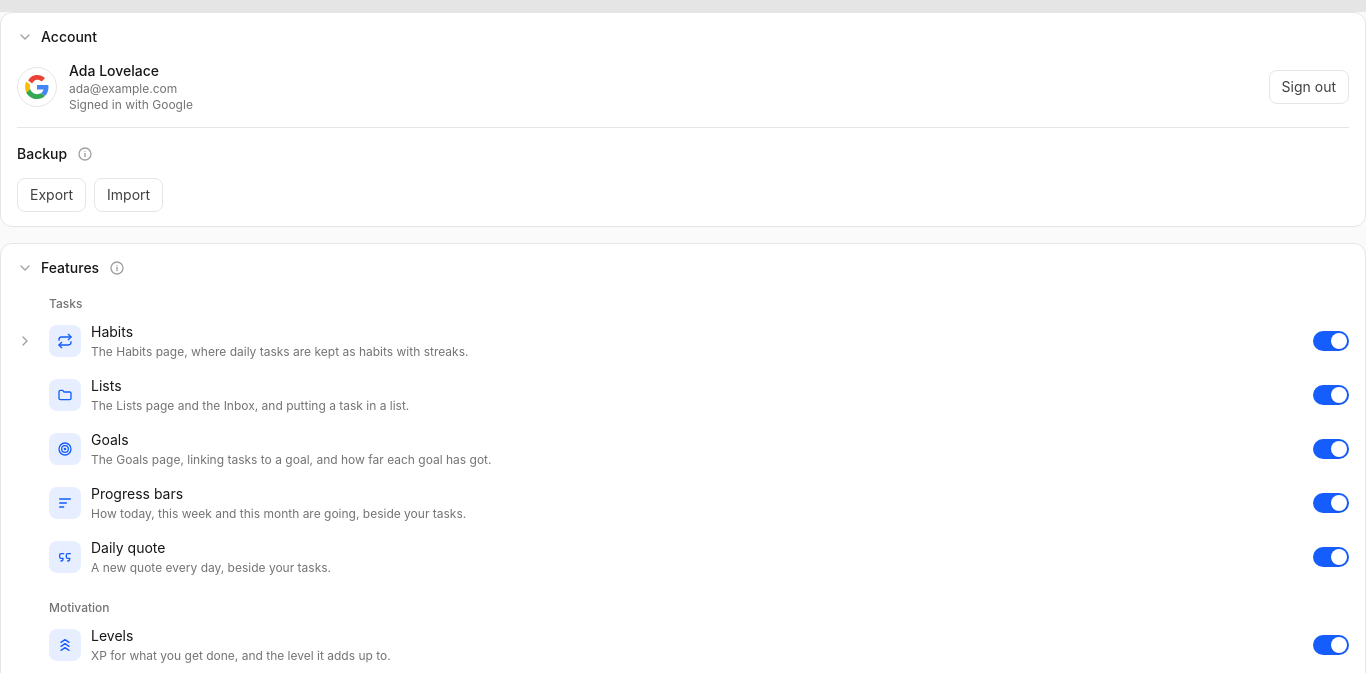
Test: the sections (UI-35) › folds a section away from its heading, and keeps it folded (STORE-57)
Click the button "Account": (57, 37) [17, 15, 97, 59]
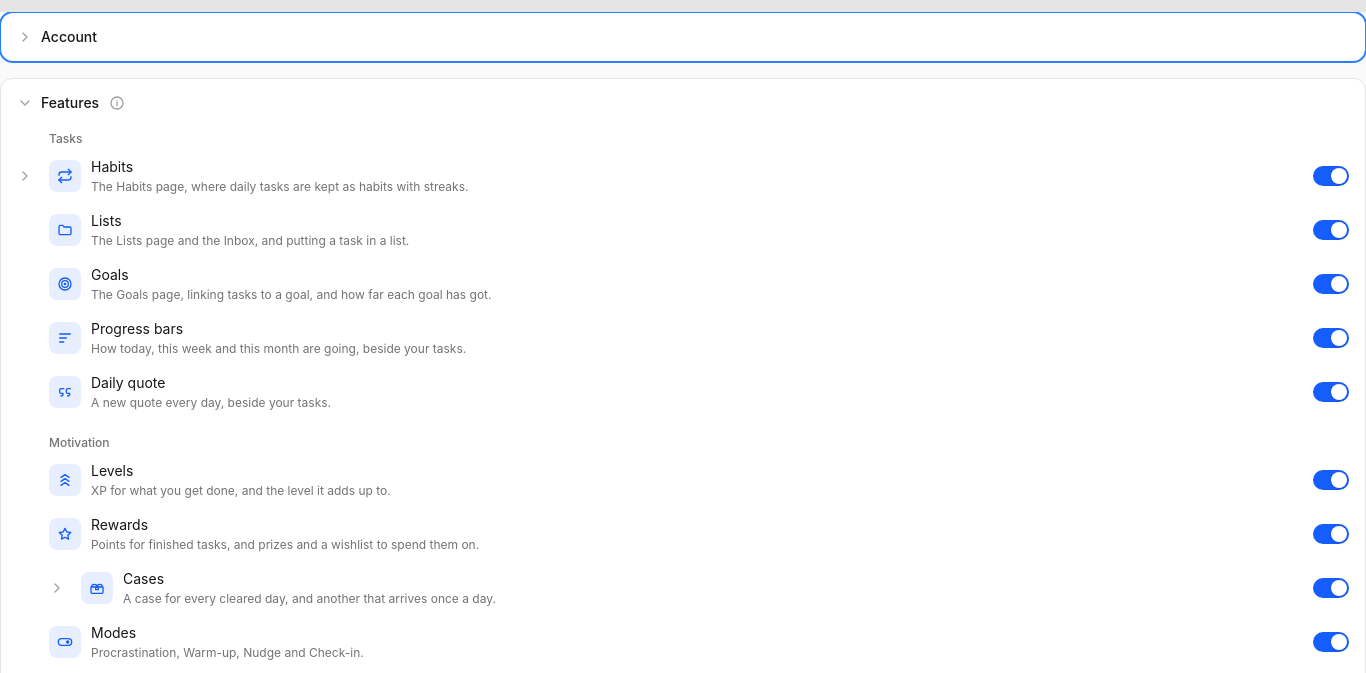
Check: the button "Account" is collapsed
Check: the button "Sign out" is gone
Click the button "Account": (57, 37) [17, 15, 97, 59]
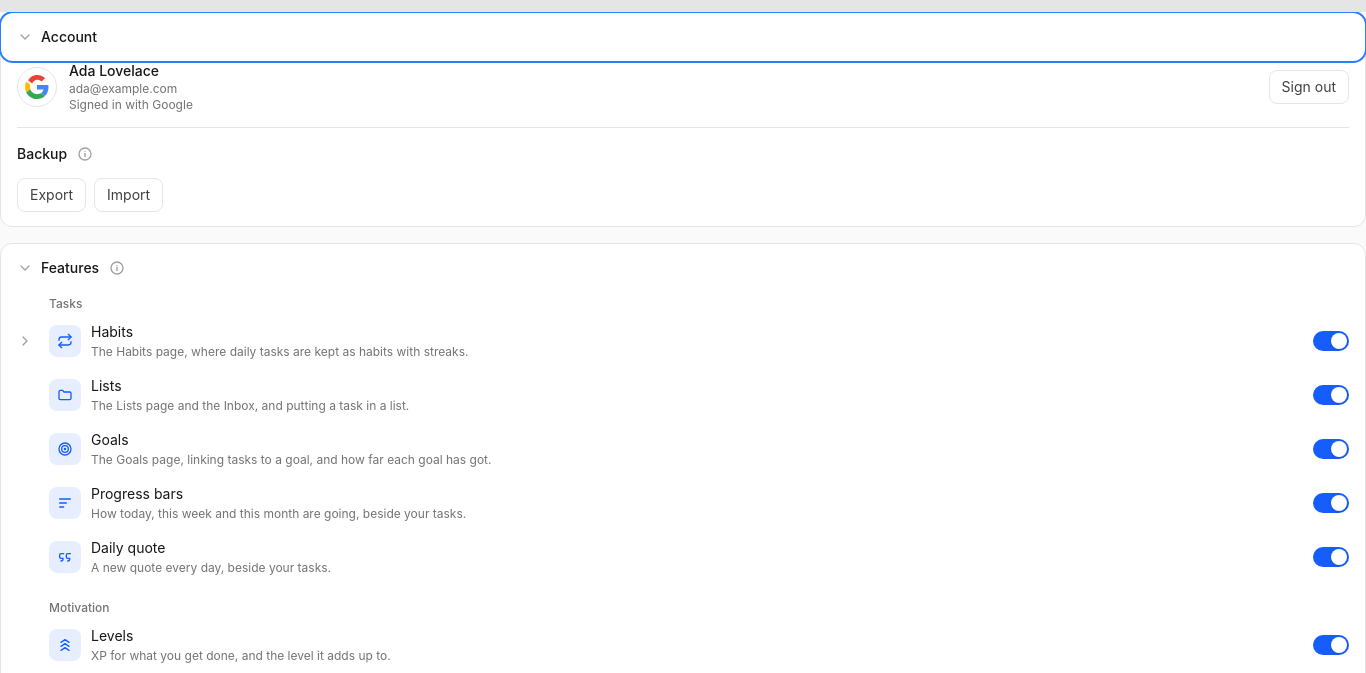
Check: the button "Sign out" is shown, box [1269, 70, 1349, 104]
